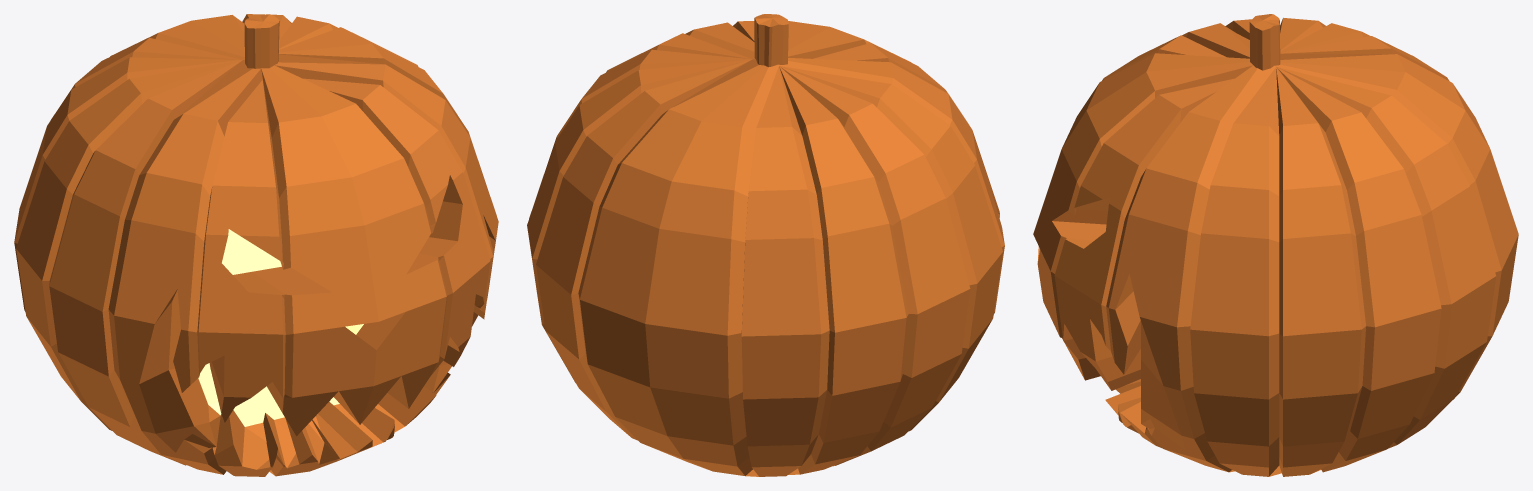
File: pumpkin.fbx
3 renders of one model, left to right at view 1: azimuth 30°, elevation 25°; view 2: azimuth 150°, elevation 25°; view 3: azimuth 270°, elevation 25°, orthographic.
Visible parts, largest first — view 1: 원형; view 2: 원형; view 3: 원형.
Part boxes in pixels (x1,y1,x2,y2): 원형: (14,14,498,476); 원형: (527,14,1004,476); 원형: (1033,14,1518,476).
Size of the model in its own units: 326 by 307 by 328.
